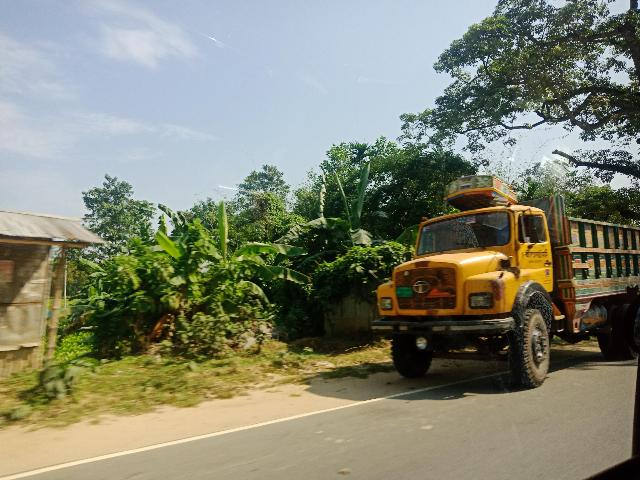truck: (362, 164, 640, 389)
